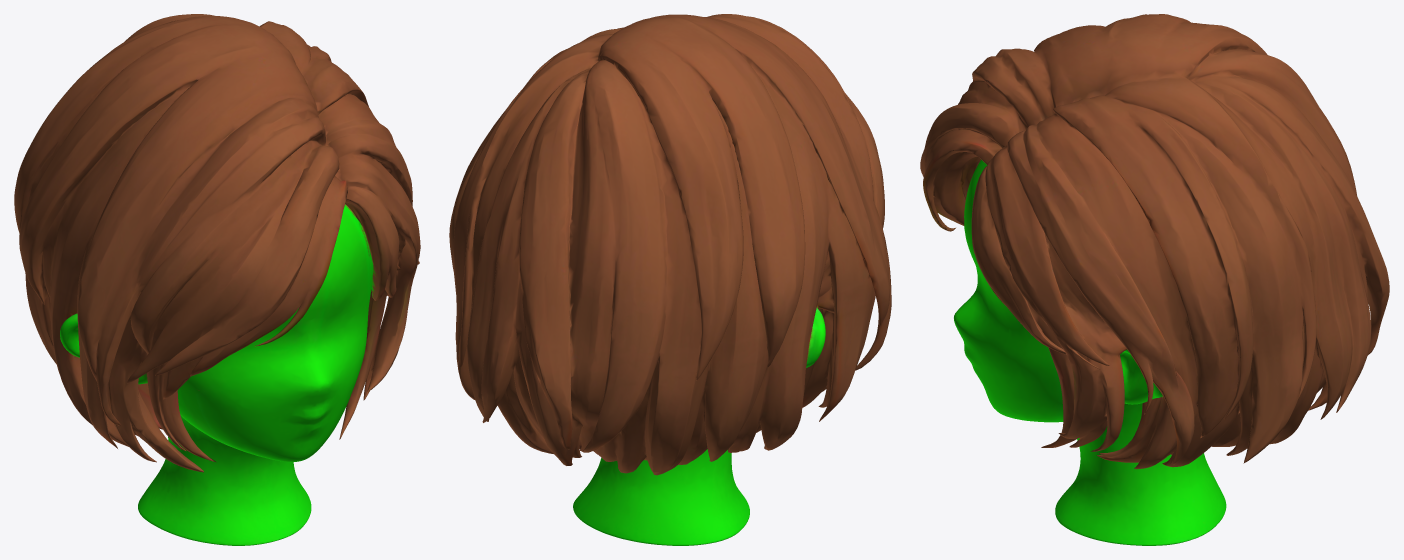
The model's file is hair-nagi-bob-v2.glb.
3 views of the same model, side by side, from view 1: azimuth 30°, elevation 25°; view 2: azimuth 150°, elevation 25°; view 3: azimuth 270°, elevation 25° (orthographic). The views are drawn at different scales.
Parts seen in each view (by area): view 1: tripo_node_ba77ff35-2da8-4556-bf73-0af9ba65b2fd; view 2: tripo_node_ba77ff35-2da8-4556-bf73-0af9ba65b2fd; view 3: tripo_node_ba77ff35-2da8-4556-bf73-0af9ba65b2fd.
Part boxes in pixels (x1,y1,x2,y2): tripo_node_ba77ff35-2da8-4556-bf73-0af9ba65b2fd: (14, 14, 420, 545); tripo_node_ba77ff35-2da8-4556-bf73-0af9ba65b2fd: (449, 14, 891, 545); tripo_node_ba77ff35-2da8-4556-bf73-0af9ba65b2fd: (920, 14, 1389, 545).
Size of the model in its own units: 0.7751 by 0.98 by 0.8637.
Materials: 1 (1 with a texture image).
